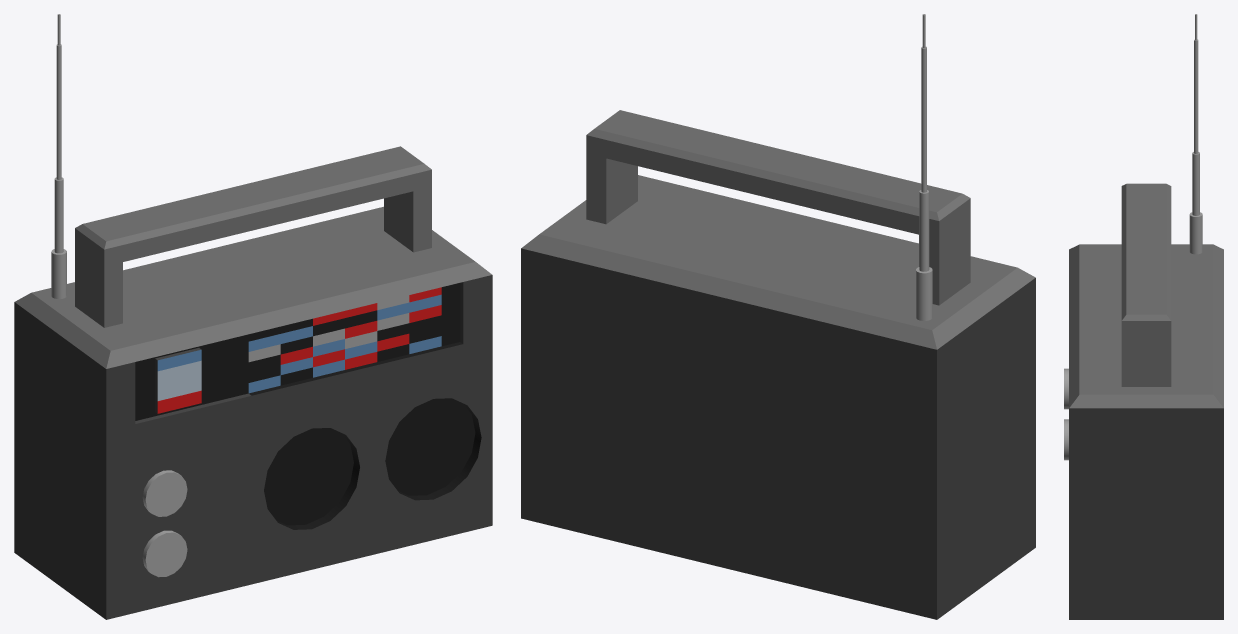
Rendered from Radio.fbx.
3 views of the same model, side by side, from view 1: azimuth 30°, elevation 25°; view 2: azimuth 150°, elevation 25°; view 3: azimuth 270°, elevation 25° (orthographic). The views are drawn at different scales.
Parts seen in each view (by area): view 1: Radio; view 2: Radio; view 3: Radio.
Part boxes in pixels (x1,y1,x2,y2): Radio: (14,14,492,619); Radio: (521,14,1035,619); Radio: (1064,14,1223,619).
Size of the model in its own units: 146 by 196 by 62.03.
